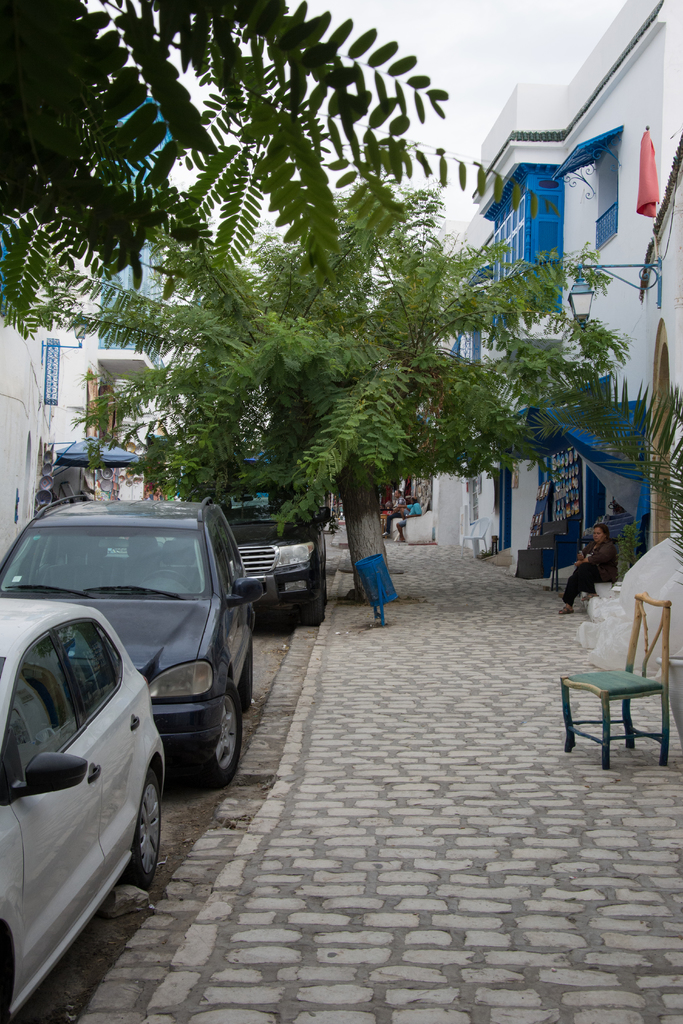Car: (0, 499, 268, 783), (0, 599, 161, 1023), (226, 452, 331, 618)
